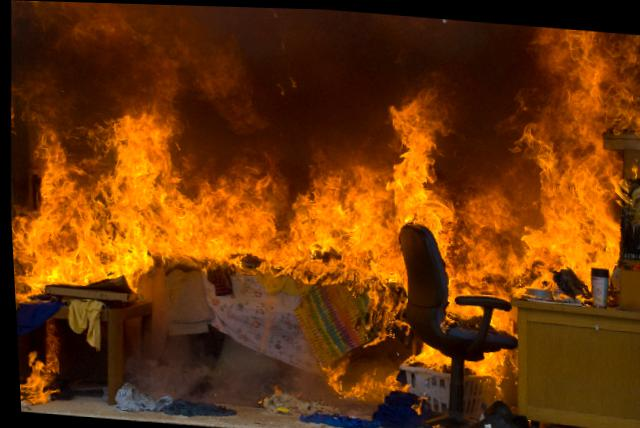fire: (11, 0, 639, 394)
